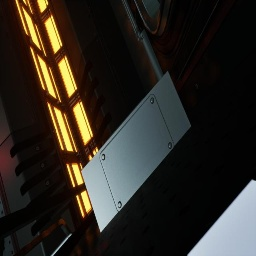SafetySwitchPanel ,: (81, 71, 191, 233)
